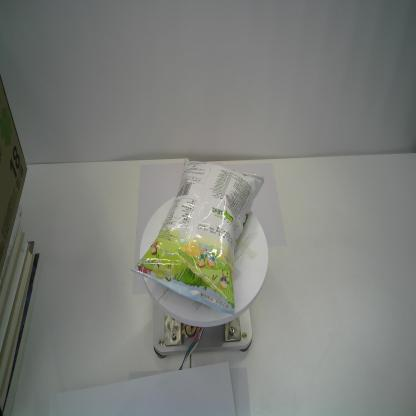Puffed Food: (130, 156, 265, 315)
